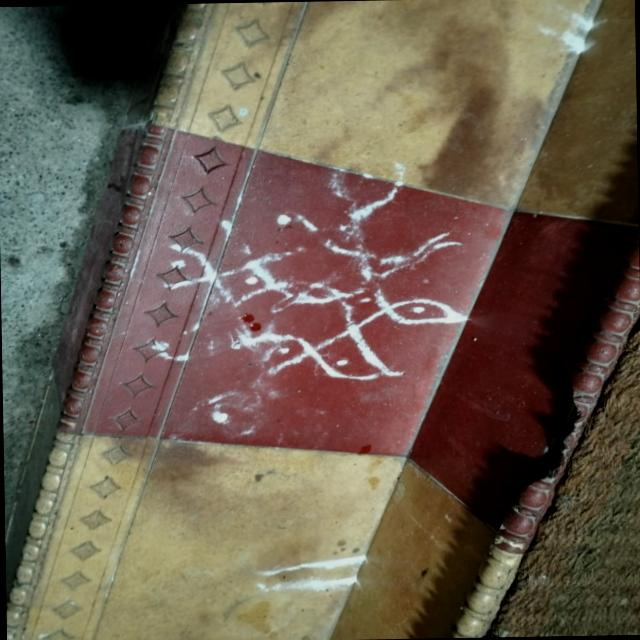rangoli: (124, 136, 482, 462)
